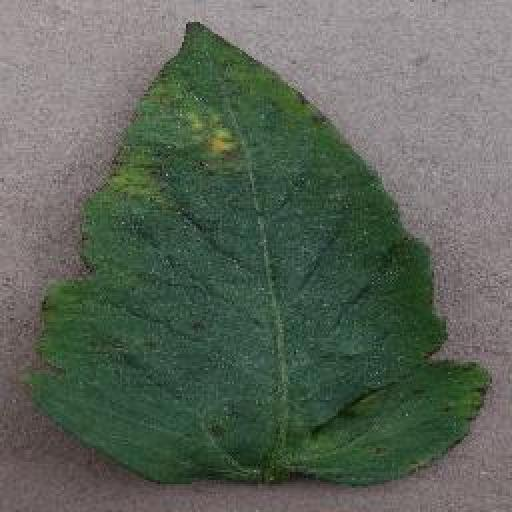Bacterial Spot: (13, 10, 496, 498)
